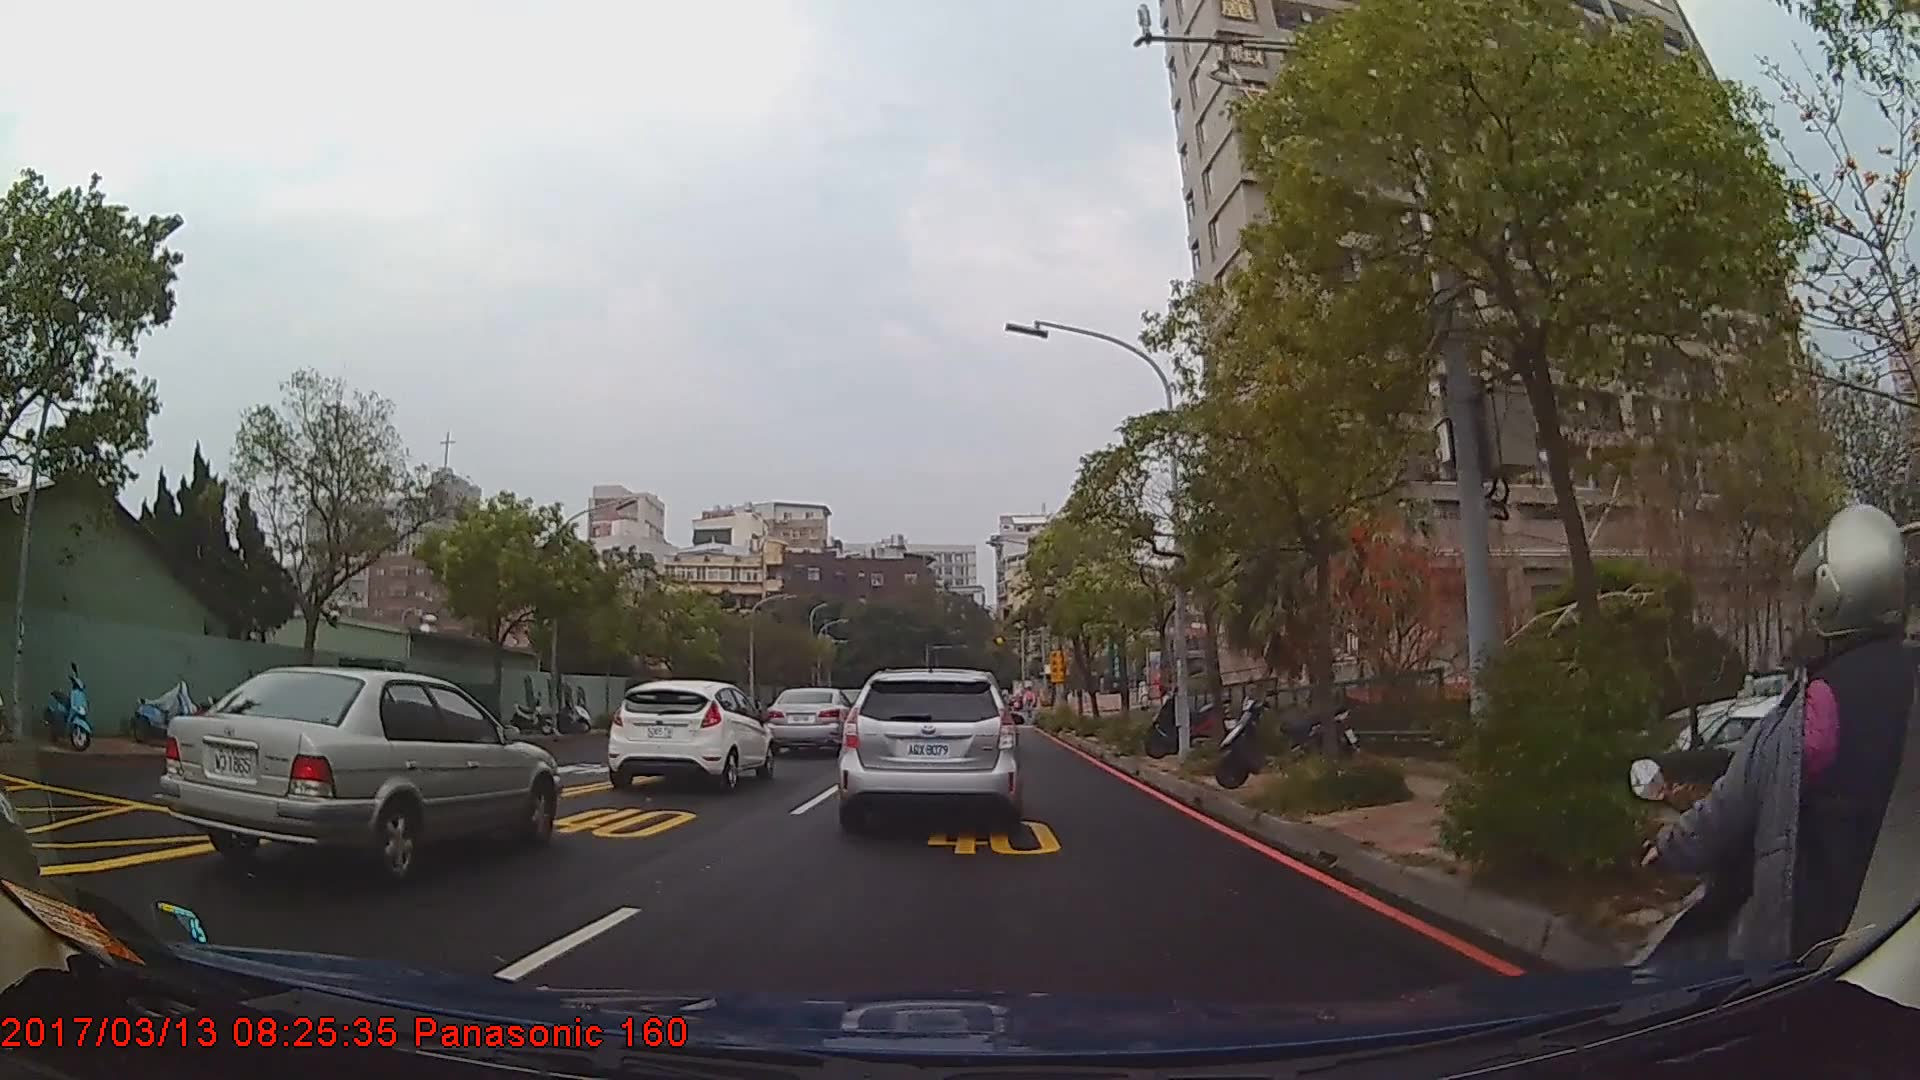rider: (1626, 494, 1920, 1080)
vehicle: (157, 664, 564, 877), (840, 664, 1020, 824), (606, 678, 775, 789), (768, 687, 859, 755)
